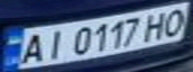0: (66, 24, 93, 56)
1: (106, 17, 130, 50), (90, 20, 112, 52)
7: (118, 13, 148, 46)
A: (12, 30, 51, 65)
H: (139, 9, 172, 42)
I: (39, 27, 69, 61)
O: (157, 6, 190, 38)
